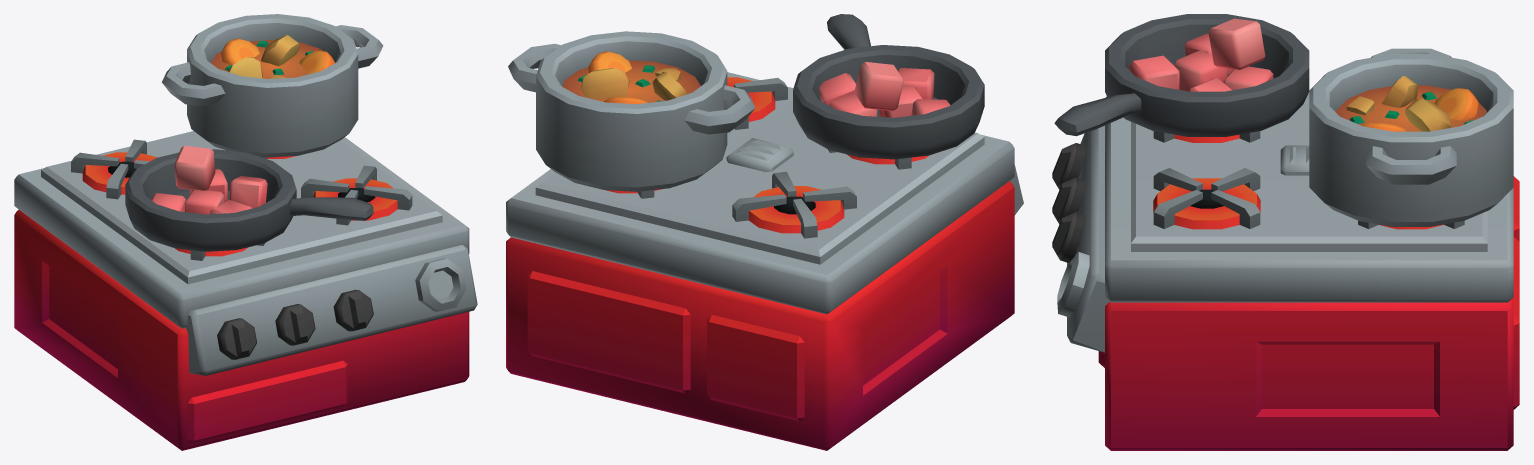
File: kay-fogao.gltf
3 views of the same model, side by side, from view 1: azimuth 30°, elevation 25°; view 2: azimuth 150°, elevation 25°; view 3: azimuth 270°, elevation 25° (orthographic). The views are drawn at different scales.
Parts seen in each view (by area): view 1: stove_multi_decorated; view 2: stove_multi_decorated; view 3: stove_multi_decorated.
Boxes of the visible parts, x1,y1,x2,y2 form: stove_multi_decorated: (14, 14, 477, 450); stove_multi_decorated: (506, 14, 1023, 450); stove_multi_decorated: (1052, 14, 1519, 450).
Size of the model in its own units: 1.43 by 1.12 by 1.49.
1 material, 1 textured.
